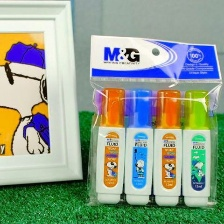correction_fluid: (93, 86, 127, 204), (179, 88, 212, 209), (121, 86, 154, 207), (150, 87, 183, 207)
